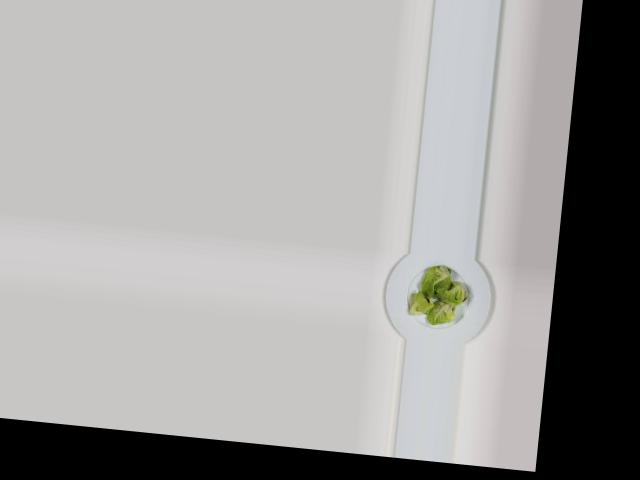lettuce: (405, 257, 472, 327)
